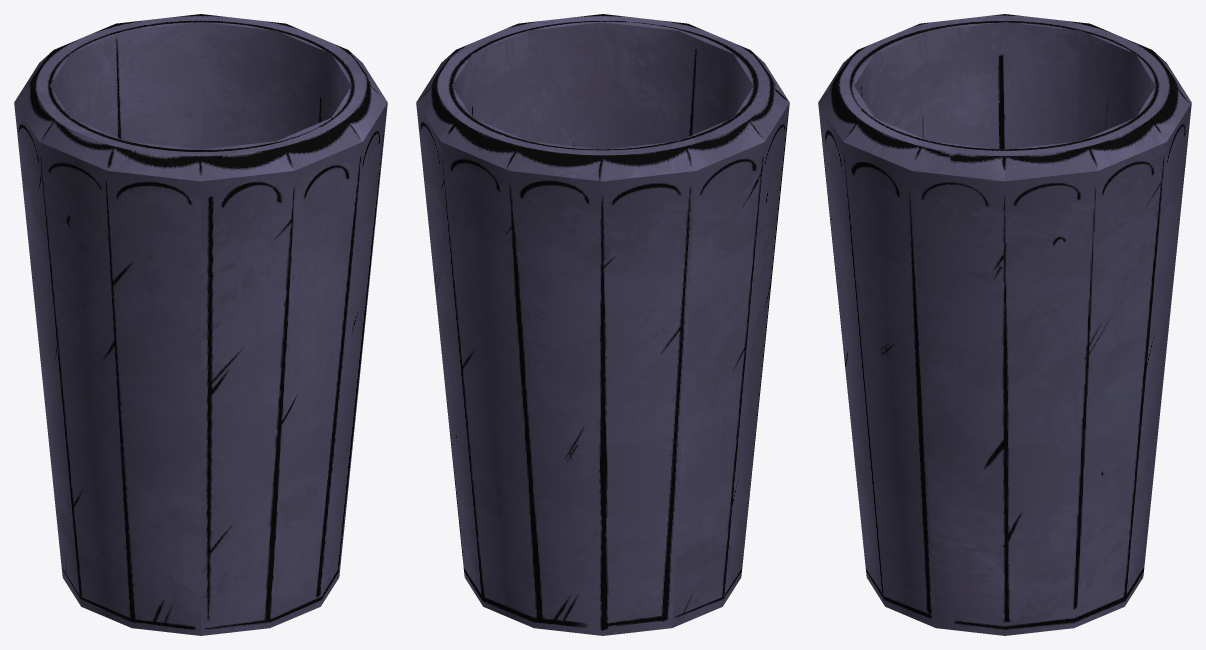
The model's file is Bin.glb.
3 views of the same model, side by side, from view 1: azimuth 30°, elevation 25°; view 2: azimuth 150°, elevation 25°; view 3: azimuth 270°, elevation 25° (orthographic).
Visible parts, largest first — view 1: Bin; view 2: Bin; view 3: Bin.
Boxes of the visible parts, x1,y1,x2,y2 form: Bin: (14,14,387,635); Bin: (416,14,789,635); Bin: (818,14,1191,635).
Bounding box in the file's own units: 1.97 × 2.87 × 1.97.
Materials: 1 (1 with a texture image).
